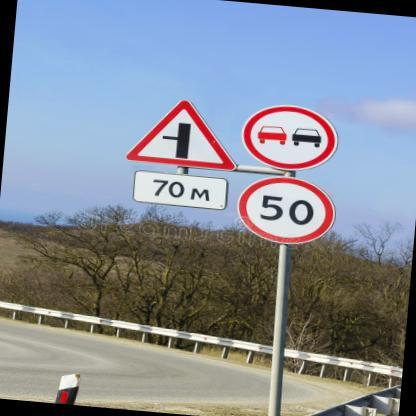road_sign: (127, 100, 235, 168), (237, 177, 334, 242), (242, 107, 337, 169), (134, 170, 227, 209)
